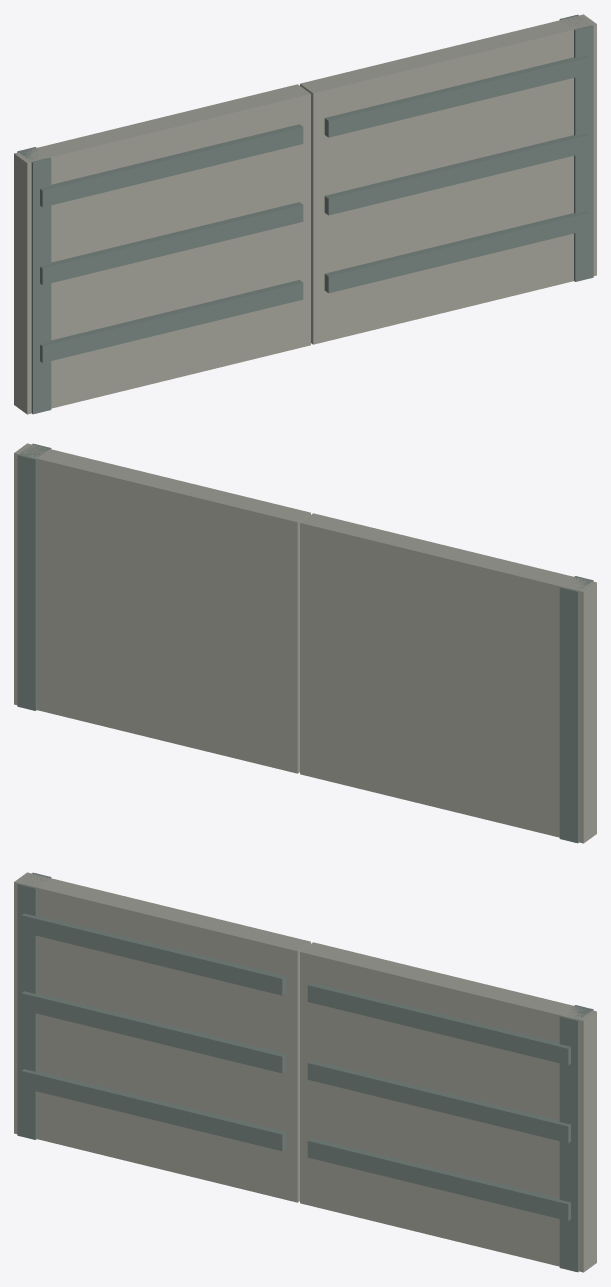
Rendered from SM_PuertaVia_v4_Blindada_e0_Sano_LOD1.fbx.
The picture shows the model from 3 angles, top to bottom: view 1: azimuth 30°, elevation 25°; view 2: azimuth 150°, elevation 25°; view 3: azimuth 330°, elevation 25°; orthographic projection.
Parts seen in each view (by area): view 1: Hoja_O, Hoja_E; view 2: Hoja_O, Hoja_E; view 3: Hoja_E, Hoja_O.
Part boxes in pixels (x1=…): Hoja_O: x1=14, y1=84, x2=310, y2=414; Hoja_E: x1=300, y1=14, x2=596, y2=344; Hoja_O: x1=300, y1=513, x2=596, y2=843; Hoja_E: x1=14, y1=443, x2=310, y2=773; Hoja_E: x1=300, y1=942, x2=596, y2=1272; Hoja_O: x1=14, y1=872, x2=310, y2=1202.
Size of what is drawn, in the model's own units: 4.98 by 2.1 by 0.28.
